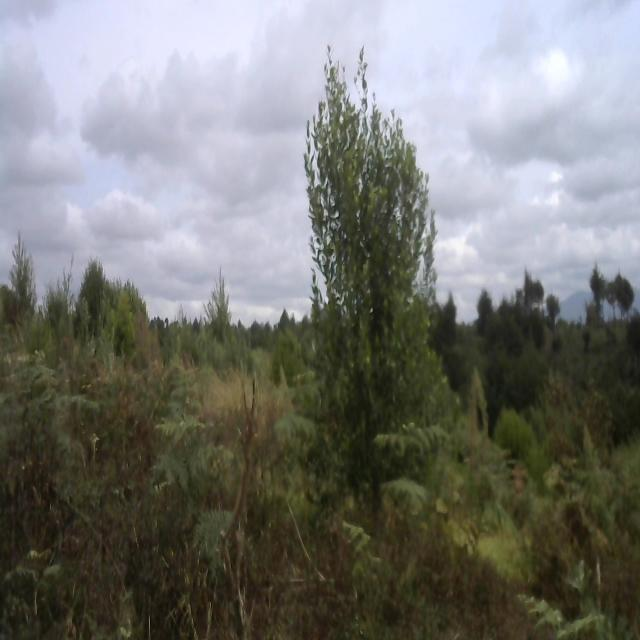Juniperus procesera: (74, 255, 110, 322), (584, 257, 608, 318), (615, 270, 638, 314)
Olea europea -africana-: (300, 42, 456, 484)
